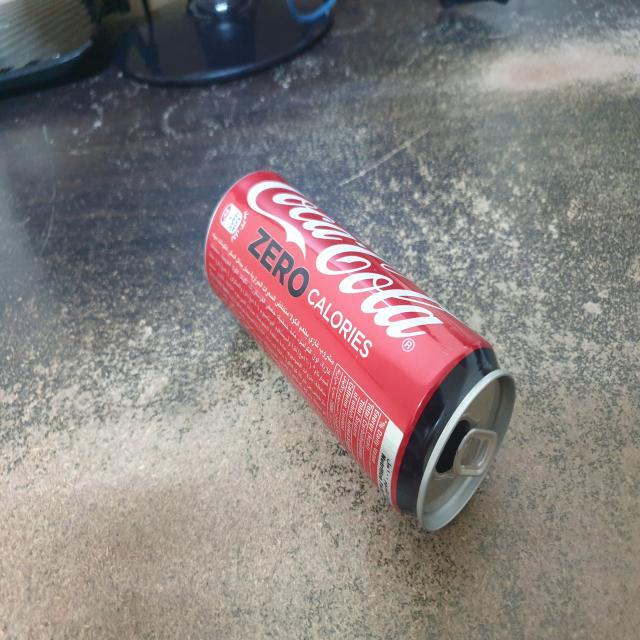can: (203, 165, 519, 542)
